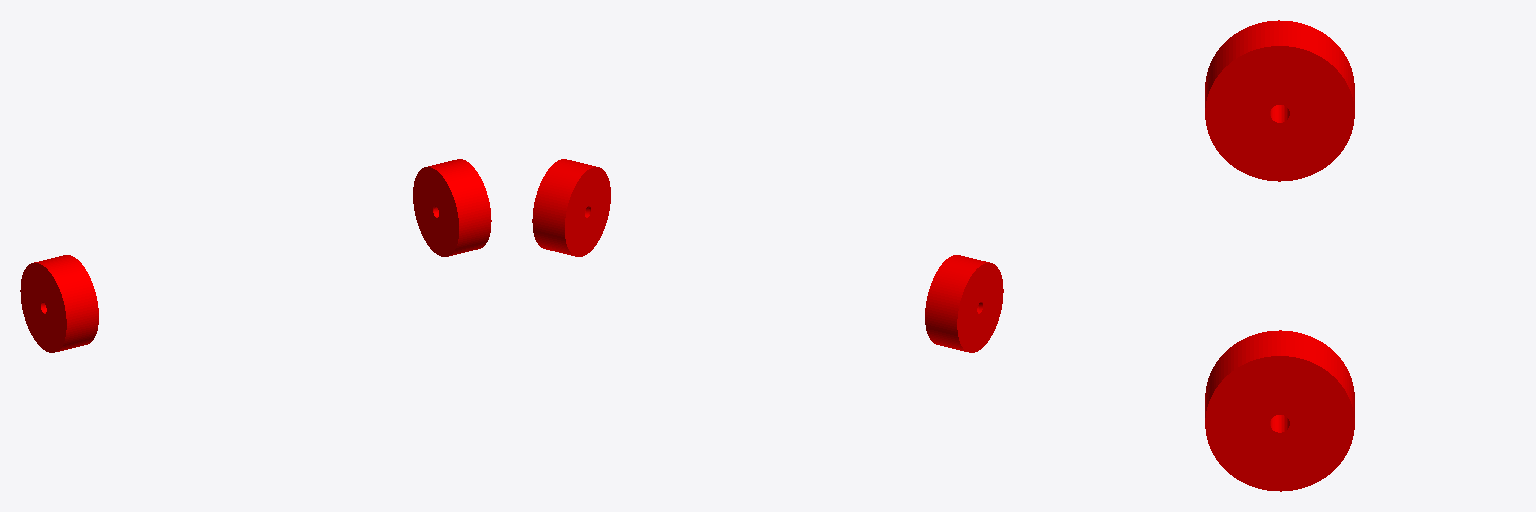
robot.urdf — urdf_2:
<?xml version="1.0" ?>
<robot name="urdf_2">
<link name="base_link">
  <inertial>
    <origin rpy="0 0 0" xyz="-0.0 -3.3e-05 0.025"/>
    <mass value="35.321242"/>
    <inertia ixx="0.333824" ixy="-0.0" ixz="2.9e-05" iyy="0.222402" iyz="-2.9e-05" izz="0.541521"/>
  </inertial>
  <visual>
    <origin rpy="0 0 0" xyz="0 0 0"/>
    <geometry>
      <mesh filename="package://fusion2urdf/urdf_2/bin_stl/base_link_m-binary.stl"/>
    </geometry>
    <material name="silver">
      <color rgba="1 0 0 1"/>
    </material>
  </visual>
  <collision>
    <origin rpy="0 0 0" xyz="0 0 0"/>
    <geometry>
      <mesh filename="package://fusion2urdf/urdf_2/bin_stl/base_link_m-binary.stl"/>
    </geometry>
  </collision>
</link>
<link name="teker1_1">
  <inertial>
    <origin rpy="0 0 0" xyz="0.0121 0.0 0.0"/>
    <mass value="0.527579"/>
    <inertia ixx="0.000242" ixy="-0.0" ixz="0.003767" iyy="0.000147" iyz="-0.003767" izz="0.000147"/>
  </inertial>
  <visual>
    <origin rpy="0 0 0" xyz="-0.135 0.1385 -0.025"/>
    <geometry>
      <mesh filename="package://fusion2urdf/urdf_2/bin_stl/teker1_1_m-binary.stl"/>
    </geometry>
    <material name="silver">
      <color rgba="1 0 0 1"/>
    </material>
  </visual>
  <collision>
    <origin rpy="0 0 0" xyz="-0.135 0.1385 -0.025"/>
    <geometry>
      <mesh filename="package://fusion2urdf/urdf_2/bin_stl/teker1_1_m-binary.stl"/>
    </geometry>
  </collision>
</link>
<link name="teker3_1">
  <inertial>
    <origin rpy="0 0 0" xyz="-0.0121 0.0 0.0"/>
    <mass value="0.527579"/>
    <inertia ixx="0.000242" ixy="-0.0" ixz="-0.002791" iyy="0.000147" iyz="0.002791" izz="0.000147"/>
  </inertial>
  <visual>
    <origin rpy="0 0 0" xyz="0.135 -0.0645 -0.025"/>
    <geometry>
      <mesh filename="package://fusion2urdf/urdf_2/bin_stl/teker3_1_m-binary.stl"/>
    </geometry>
    <material name="silver">
      <color rgba="1 0 0 1"/>
    </material>
  </visual>
  <collision>
    <origin rpy="0 0 0" xyz="0.135 -0.0645 -0.025"/>
    <geometry>
      <mesh filename="package://fusion2urdf/urdf_2/bin_stl/teker3_1_m-binary.stl"/>
    </geometry>
  </collision>
</link>
<link name="teker4_1">
  <inertial>
    <origin rpy="0 0 0" xyz="-0.0121 0.0 0.0"/>
    <mass value="0.527579"/>
    <inertia ixx="0.000242" ixy="0.0" ixz="-0.000113" iyy="0.000147" iyz="0.000113" izz="0.000147"/>
  </inertial>
  <visual>
    <origin rpy="0 0 0" xyz="0.135 0.1385 -0.025"/>
    <geometry>
      <mesh filename="package://fusion2urdf/urdf_2/bin_stl/teker4_1_m-binary.stl"/>
    </geometry>
    <material name="silver">
      <color rgba="1 0 0 1"/>
    </material>
  </visual>
  <collision>
    <origin rpy="0 0 0" xyz="0.135 0.1385 -0.025"/>
    <geometry>
      <mesh filename="package://fusion2urdf/urdf_2/bin_stl/teker4_1_m-binary.stl"/>
    </geometry>
  </collision>
</link>
<link name="teker2_1">
  <inertial>
    <origin rpy="0 0 0" xyz="0.0121 0.0 0.0"/>
    <mass value="0.527579"/>
    <inertia ixx="0.000242" ixy="0.0" ixz="0.001089" iyy="0.000147" iyz="-0.001089" izz="0.000147"/>
  </inertial>
  <visual>
    <origin rpy="0 0 0" xyz="-0.135 -0.0645 -0.025"/>
    <geometry>
      <mesh filename="package://fusion2urdf/urdf_2/bin_stl/teker2_1_m-binary.stl"/>
    </geometry>
    <material name="silver">
      <color rgba="1 0 0 1"/>
    </material>
  </visual>
  <collision>
    <origin rpy="0 0 0" xyz="-0.135 -0.0645 -0.025"/>
    <geometry>
      <mesh filename="package://fusion2urdf/urdf_2/bin_stl/teker2_1_m-binary.stl"/>
    </geometry>
  </collision>
</link>
<joint name="Rev2" type="continuous">
  <origin rpy="0 0 0" xyz="0.135 -0.1385 0.025"/>
  <parent link="base_link"/>
  <child link="teker1_1"/>
  <axis xyz="-0.01 0.0 0.0"/>
</joint>
<transmission name="Rev2_tran">
  <type>transmission_interface/SimpleTransmission</type>
  <joint name="Rev2">
    <hardwareInterface>PositionJointInterface</hardwareInterface>
  </joint>
  <actuator name="Rev2_actr">
    <hardwareInterface>PositionJointInterface</hardwareInterface>
    <mechanicalReduction>1</mechanicalReduction>
  </actuator>
</transmission>
<joint name="Rev3" type="continuous">
  <origin rpy="0 0 0" xyz="-0.135 0.0645 0.025"/>
  <parent link="base_link"/>
  <child link="teker3_1"/>
  <axis xyz="0.01 0.0 0.0"/>
</joint>
<transmission name="Rev3_tran">
  <type>transmission_interface/SimpleTransmission</type>
  <joint name="Rev3">
    <hardwareInterface>PositionJointInterface</hardwareInterface>
  </joint>
  <actuator name="Rev3_actr">
    <hardwareInterface>PositionJointInterface</hardwareInterface>
    <mechanicalReduction>1</mechanicalReduction>
  </actuator>
</transmission>
<joint name="Rev4" type="continuous">
  <origin rpy="0 0 0" xyz="-0.135 -0.1385 0.025"/>
  <parent link="base_link"/>
  <child link="teker4_1"/>
  <axis xyz="0.01 0.0 0.0"/>
</joint>
<transmission name="Rev4_tran">
  <type>transmission_interface/SimpleTransmission</type>
  <joint name="Rev4">
    <hardwareInterface>PositionJointInterface</hardwareInterface>
  </joint>
  <actuator name="Rev4_actr">
    <hardwareInterface>PositionJointInterface</hardwareInterface>
    <mechanicalReduction>1</mechanicalReduction>
  </actuator>
</transmission>
<joint name="Rev1" type="continuous">
  <origin rpy="0 0 0" xyz="0.135 0.0645 0.025"/>
  <parent link="base_link"/>
  <child link="teker2_1"/>
  <axis xyz="-0.01 0.0 0.0"/>
</joint>
<transmission name="Rev1_tran">
  <type>transmission_interface/SimpleTransmission</type>
  <joint name="Rev1">
    <hardwareInterface>PositionJointInterface</hardwareInterface>
  </joint>
  <actuator name="Rev1_actr">
    <hardwareInterface>PositionJointInterface</hardwareInterface>
    <mechanicalReduction>1</mechanicalReduction>
  </actuator>
</transmission>
<gazebo>
  <plugin filename="libgazebo_ros_control.so" name="control"/>
</gazebo>
</robot>

--- Render facts (derived) ---
The picture shows the robot from 3 angles, left to right: view 1: azimuth 30°, elevation 25°; view 2: azimuth 150°, elevation 25°; view 3: azimuth 270°, elevation 25°; orthographic projection.
Robot: urdf_2 — 5 links, 4 joints (4 continuous); root link base_link; default pose: every joint at zero.
Links seen in each view (by area): view 1: teker3_1, teker2_1; view 2: teker3_1, teker2_1; view 3: teker3_1, teker2_1.
Boxes of the visible links, x1=… form: teker3_1: x1=20, y1=255, x2=98, y2=352; teker2_1: x1=413, y1=159, x2=491, y2=256; teker3_1: x1=925, y1=255, x2=1003, y2=352; teker2_1: x1=532, y1=159, x2=610, y2=256; teker3_1: x1=1205, y1=20, x2=1354, y2=181; teker2_1: x1=1205, y1=330, x2=1354, y2=491.
Size in the robot's own frame: 31.84 by 6 by 6 metres.
2 mesh visuals loaded from 5 distinct referenced files (2 ASCII STL); not drawn: 3 (reference not matched to a file when rendering).